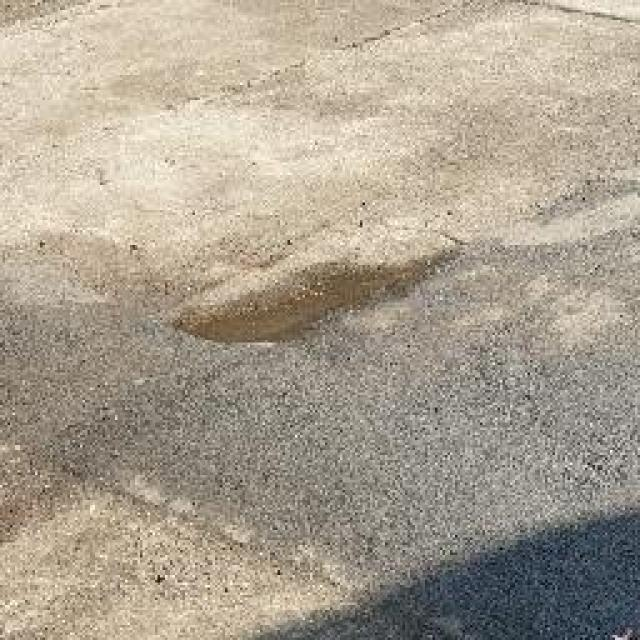waterlogging: (158, 222, 485, 364)
